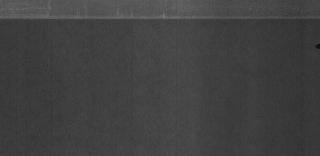punching hole: (314, 43, 320, 50)
welding line: (1, 14, 319, 25)
